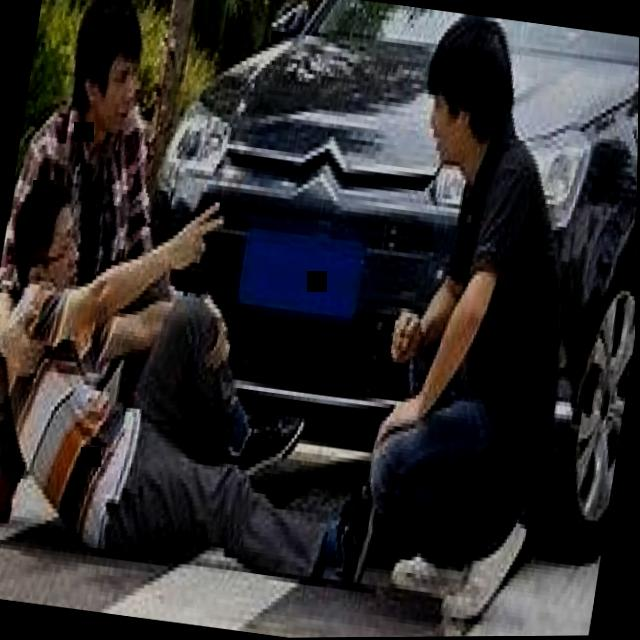Fall-Detected: (0, 143, 436, 613)
